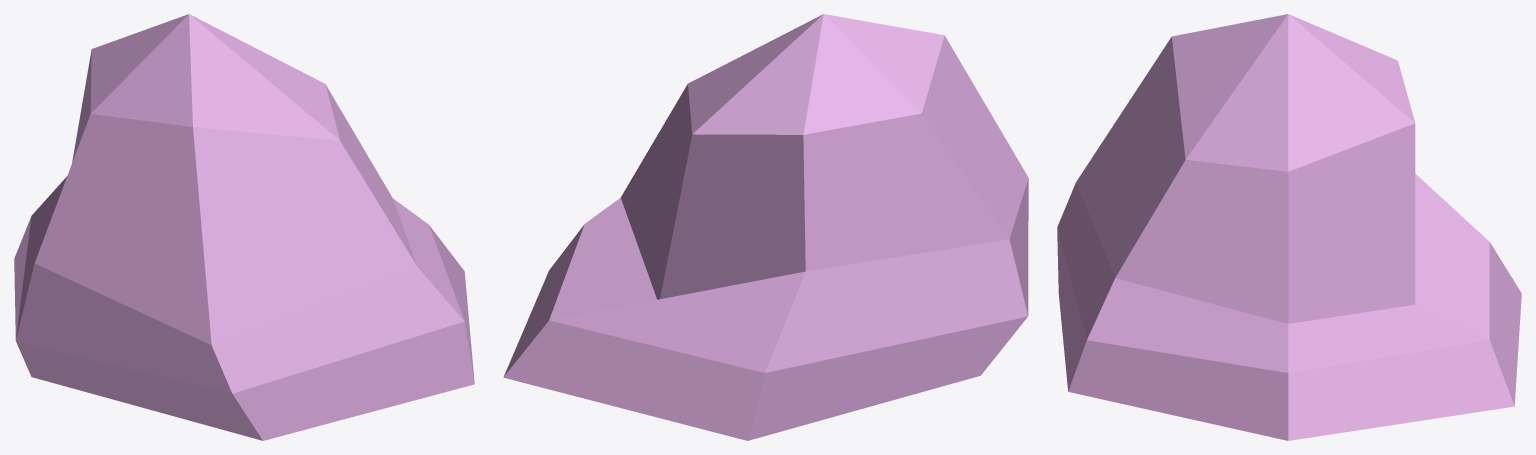
The model's file is rock_1_v1.fbx.
3 views of the same model, side by side, from view 1: azimuth 30°, elevation 25°; view 2: azimuth 150°, elevation 25°; view 3: azimuth 270°, elevation 25° (orthographic). The views are drawn at different scales.
Visible parts, largest first — view 1: rock_1; view 2: rock_1; view 3: rock_1.
Boxes of the visible parts, <box> form: rock_1: <box>14,14,474,440</box>; rock_1: <box>503,14,1028,440</box>; rock_1: <box>1057,14,1521,440</box>.
Bounding box in the file's own units: 2.15 × 1.43 × 2.
